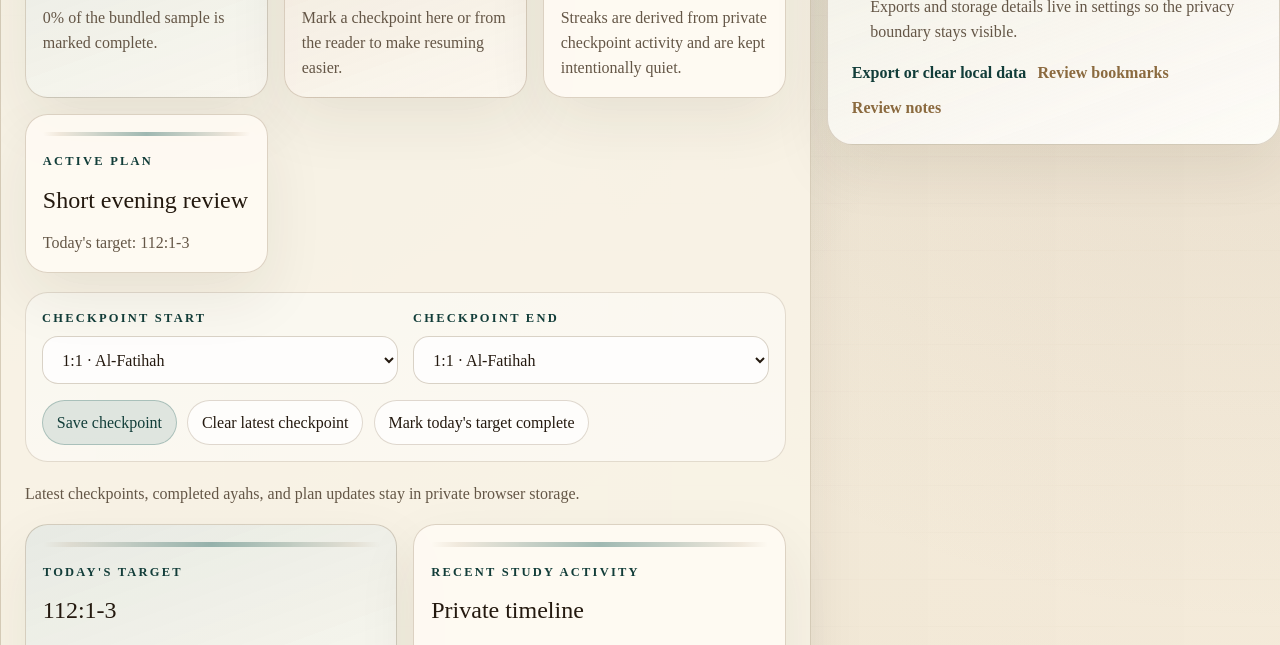
Test: ProgressExperience › saves a checkpoint and updates bundled progress totals
This screenshot has width=1280, height=645.
(page scrolled)
Select "112:1 · Al-Ikhlas" in the dropdown labelled "Checkpoint start" at (220, 360), box [42, 336, 398, 384]
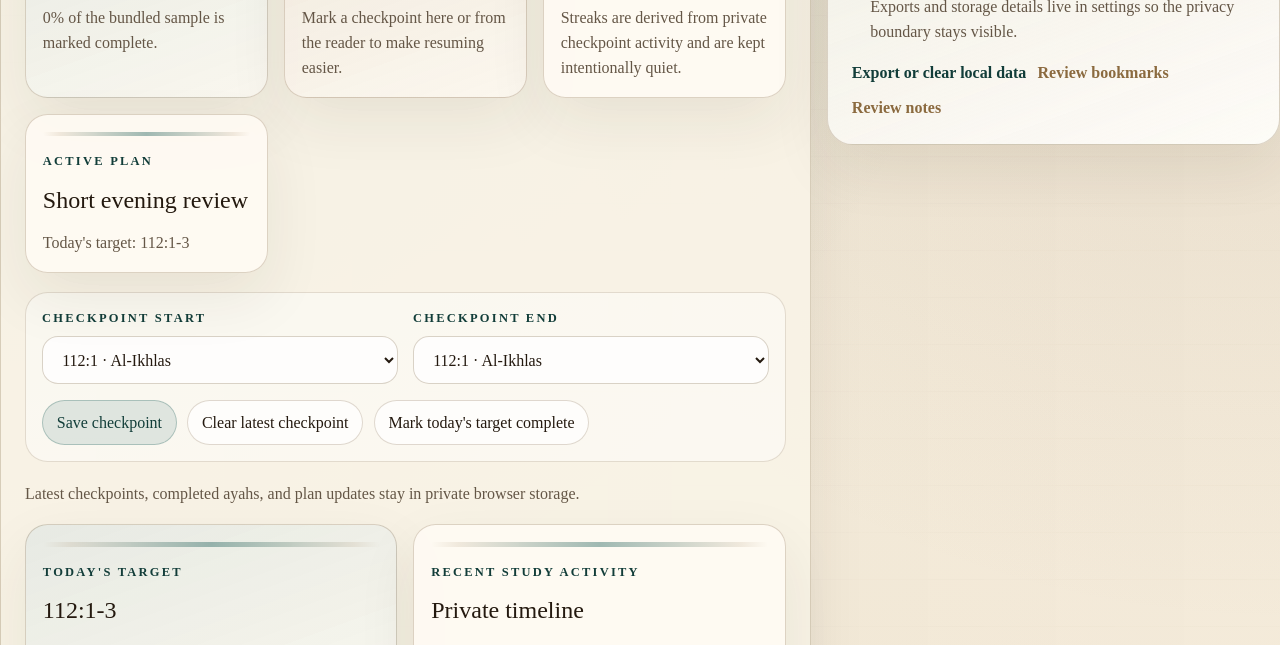
Select "112:2 · Al-Ikhlas" in the dropdown labelled "Checkpoint end" at (591, 360), box [413, 336, 769, 384]
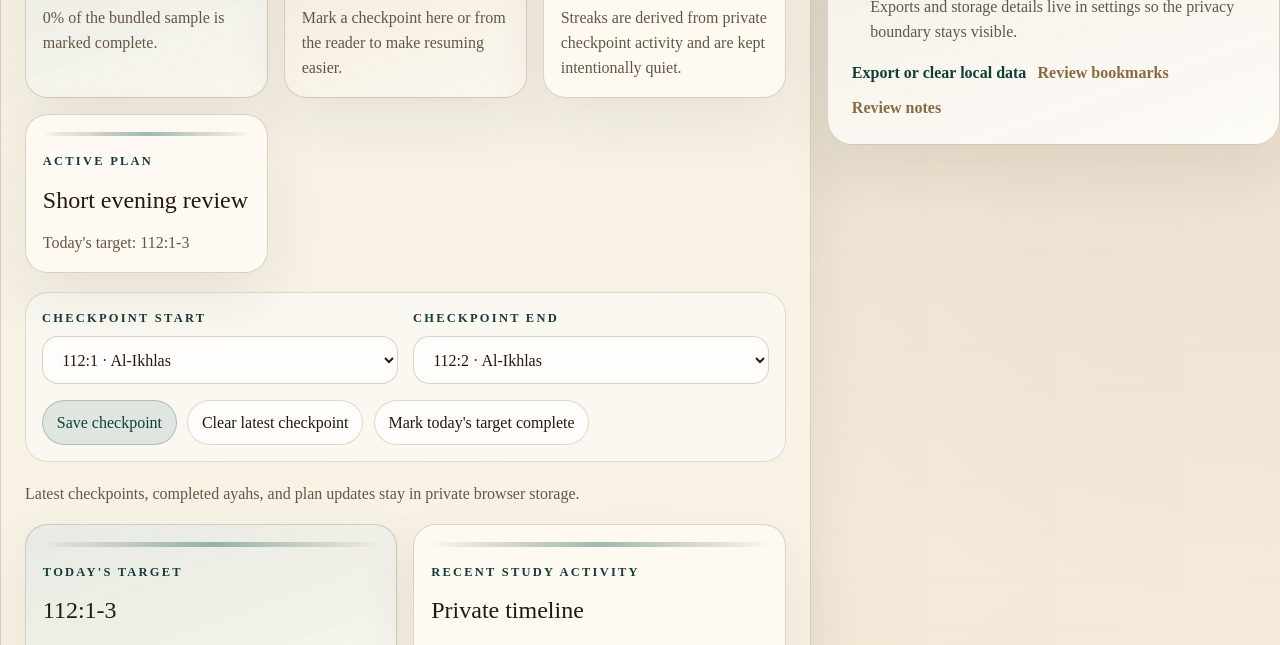
Click the button "Save checkpoint".
click(109, 422)  # box [42, 400, 177, 445]
(page scrolled)
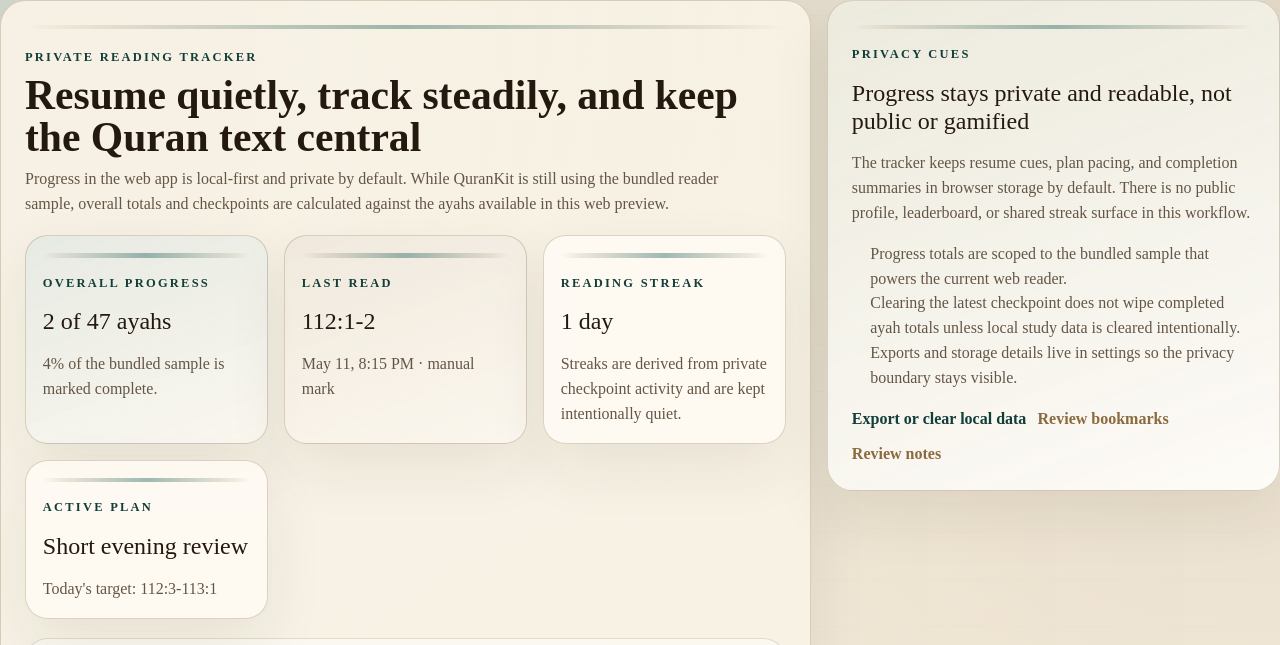
Check: the heading "2 of 47 ayahs" is shown, box [43, 308, 172, 334]
